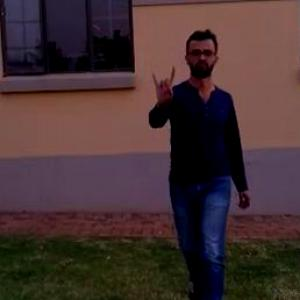takeoff-hand: (148, 62, 178, 116)
